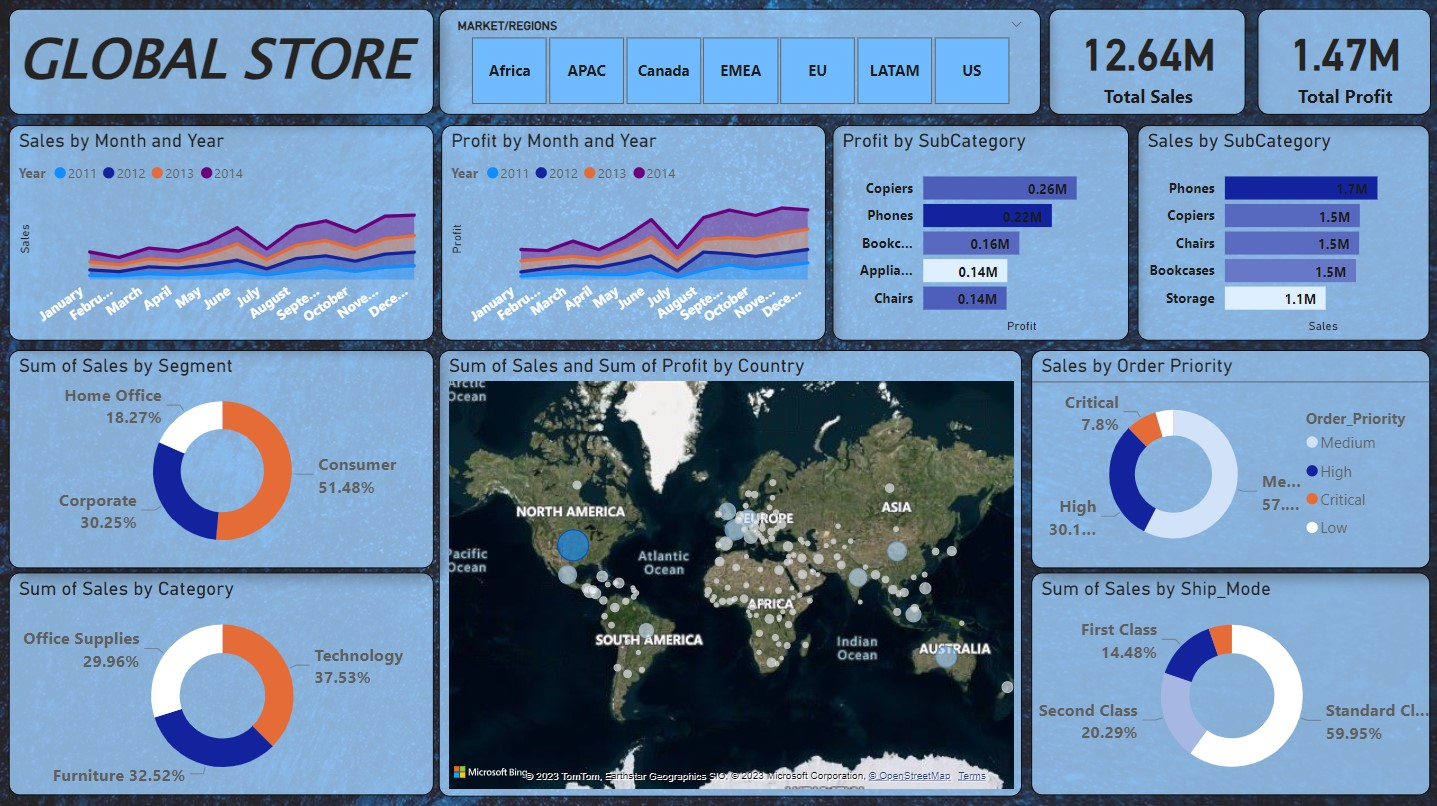

The page's visual inventory and layout, read from the dashboard file:
{"tool":"powerbi","page":{"name":"Page 1","canvas":[1280,720],"ordinal":0},"visuals":[{"type":"donutChart","fields":{"Category":["Globalstore orders.Category"],"Y":["Sum(Globalstore orders.Sales)"]},"box":[8.1,510.1,378.8,198.7],"z":0},{"type":"clusteredBarChart","fields":{"Category":["Globalstore orders.SubCategory"],"Y":["Sum(Globalstore orders.Sales)"]},"box":[1013.2,111.5,260.3,191.7],"z":1000},{"type":"clusteredBarChart","fields":{"Category":["Globalstore orders.SubCategory"],"Y":["Sum(Globalstore orders.Profit)"]},"box":[741.3,111.5,263.8,191.7],"z":2000},{"type":"card","fields":{"Values":["Sum(Globalstore orders.Profit)"]},"box":[1119,8.1,154.5,94.1],"z":3000},{"type":"card","fields":{"Values":["Sum(Globalstore orders.Sales)"]},"box":[934.2,8.1,175.5,94.1],"z":4000},{"type":"slicer","fields":{"Values":["Globalstore orders.Market"]},"box":[390.4,8.1,535.7,94.1],"z":5000},{"type":"map","fields":{"Category":["Globalstore orders.Country"],"Size":["Sum(Globalstore orders.Sales)"]},"box":[390.4,311.4,519.4,397.4],"z":6000},{"type":"donutChart","fields":{"Category":["Globalstore orders.Segment"],"Y":["Sum(Globalstore orders.Sales)"]},"box":[8.1,311.4,378.8,194],"z":7000},{"type":"stackedAreaChart","fields":{"Category":["Globalstore orders.Order_Date.Variation.Date Hierarchy.Month"],"Y":["Sum(Globalstore orders.Sales)"],"Series":["Globalstore orders.Order_Date.Variation.Date Hierarchy.Year"]},"box":[8.1,111.5,378.8,191.7],"z":8000},{"type":"textbox","box":[8.1,8.1,378.8,94.1],"z":9000},{"type":"donutChart","fields":{"Y":["Sum(Globalstore orders.Sales)"],"Category":["Globalstore orders.Ship_Mode"]},"box":[917.9,510.1,355.6,198.7],"z":10000},{"type":"donutChart","title":"Sales by Order Priority","fields":{"Y":["Sum(Globalstore orders.Sales)"],"Category":["Globalstore orders.Order_Priority"]},"box":[917.9,311.4,355.6,194],"z":11000},{"type":"stackedAreaChart","fields":{"Category":["Globalstore orders.Order_Date.Variation.Date Hierarchy.Month"],"Series":["Globalstore orders.Order_Date.Variation.Date Hierarchy.Year"],"Y":["Sum(Globalstore orders.Profit)"]},"box":[392.7,111.5,342.8,191.7],"z":12000}]}

Visuals, with their boxes in screenshot pixels (x1, y1, x2, y2), scaled from the page's 1280x720 canvas onto the 1437x806 screenshot:
donutChart - Globalstore orders.Category x Sum(Globalstore orders.Sales): 9 571 434 793
clusteredBarChart - Globalstore orders.SubCategory x Sum(Globalstore orders.Sales): 1137 125 1430 339
clusteredBarChart - Globalstore orders.SubCategory x Sum(Globalstore orders.Profit): 832 125 1128 339
card - Sum(Globalstore orders.Profit): 1256 9 1430 114
card - Sum(Globalstore orders.Sales): 1049 9 1246 114
slicer - Globalstore orders.Market: 438 9 1040 114
map - Globalstore orders.Country x Sum(Globalstore orders.Sales): 438 349 1021 793
donutChart - Globalstore orders.Segment x Sum(Globalstore orders.Sales): 9 349 434 566
stackedAreaChart - Globalstore orders.Order_Date.Variation.Date Hierarchy.Month x Sum(Globalstore orders.Sales): 9 125 434 339
textbox: 9 9 434 114
donutChart - Sum(Globalstore orders.Sales) x Globalstore orders.Ship_Mode: 1030 571 1430 793
"Sales by Order Priority" donutChart: 1030 349 1430 566
stackedAreaChart - Globalstore orders.Order_Date.Variation.Date Hierarchy.Month x Globalstore orders.Order_Date.Variation.Date Hierarchy.Year: 441 125 826 339
